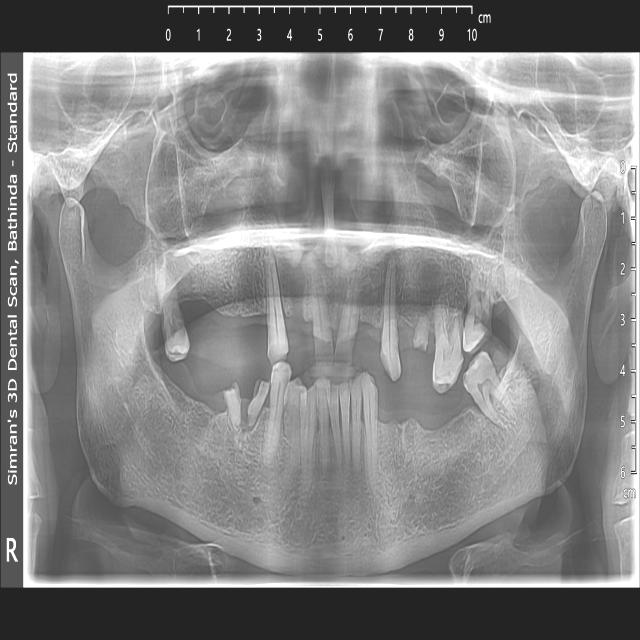Caries: (433, 348, 465, 404), (459, 299, 491, 349), (162, 307, 186, 355)
Missing teeth: (381, 392, 477, 455), (186, 286, 259, 338), (175, 386, 222, 433), (286, 269, 309, 343), (359, 299, 382, 354)
Periapical lesion: (380, 252, 402, 301)
Root Piece: (221, 382, 242, 433), (248, 385, 269, 431), (411, 314, 429, 353)
